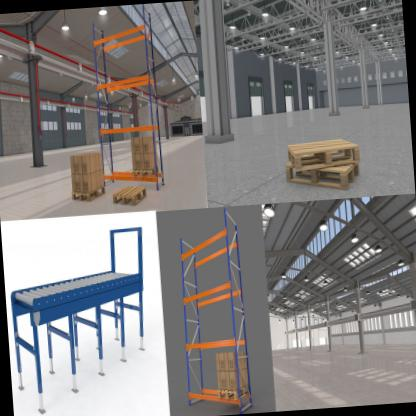BoxFace: (286, 135, 361, 170), (284, 162, 363, 188), (112, 184, 148, 208), (72, 186, 106, 203), (218, 384, 250, 401), (133, 165, 159, 179)
